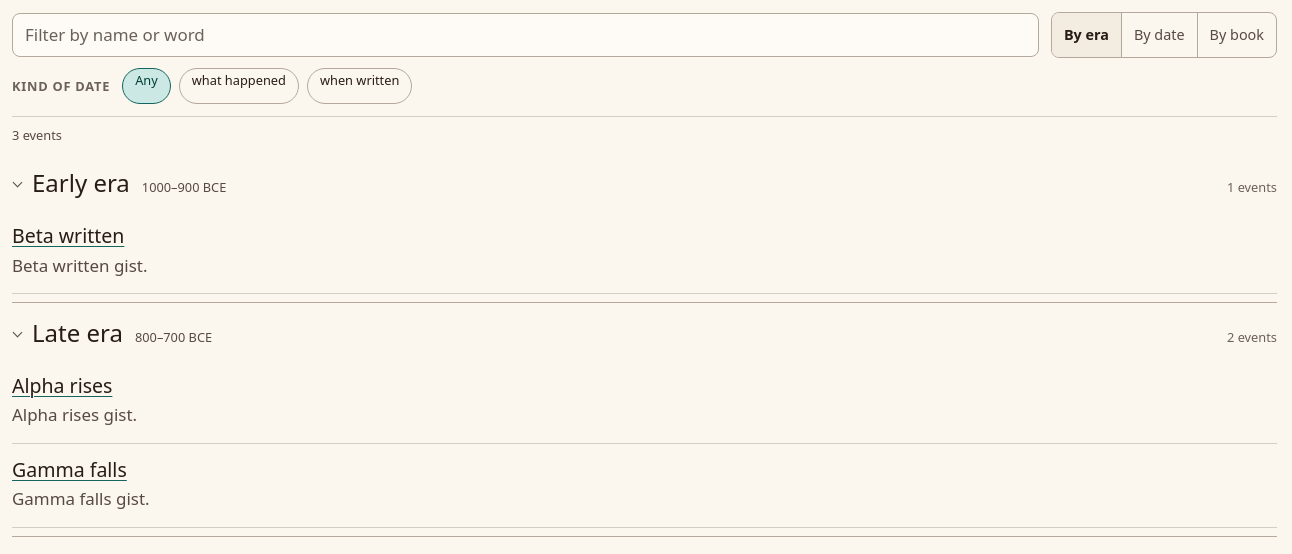
Scenario: CatalogueIndex › shows an empty message when nothing matches
The image size is (1292, 554).
Type "zzz" into the search field named "Filter events".
click(525, 35); type("zzz")  # box [12,13,1039,57]
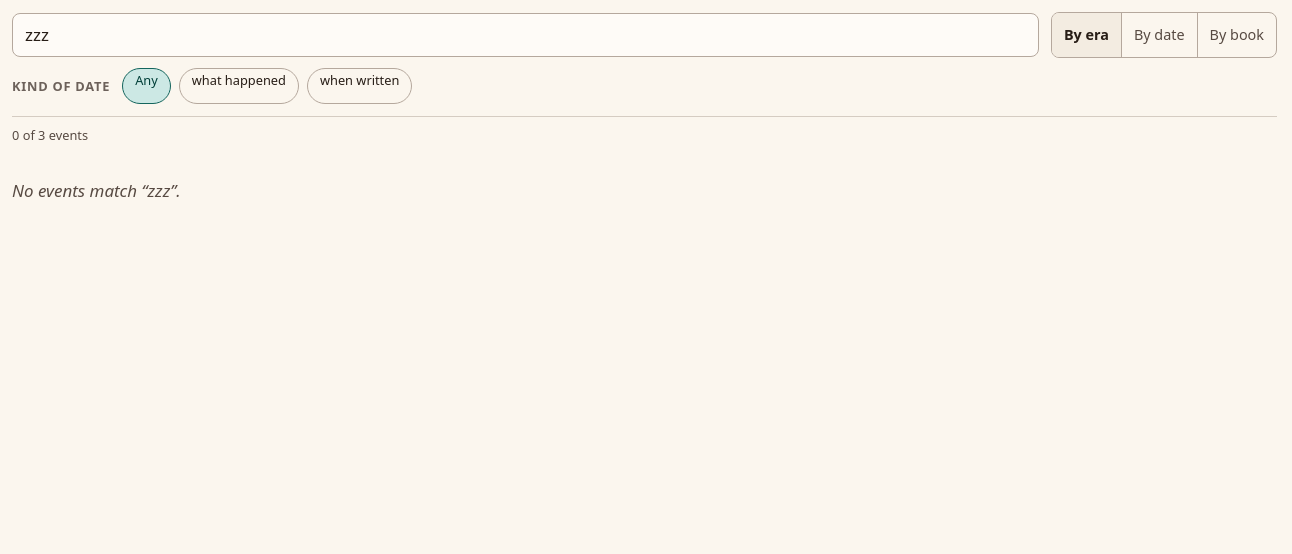
Now the text "No events match “zzz”." is shown, box [12,180,181,202]
